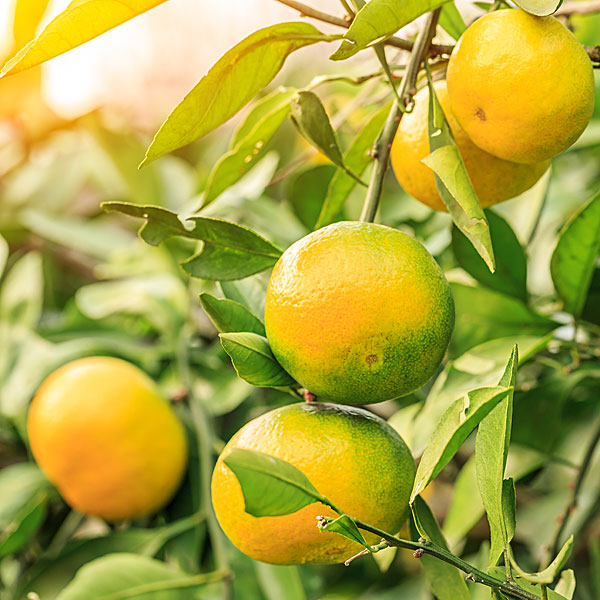orange: (262, 221, 455, 402), (206, 401, 417, 564), (27, 354, 189, 522), (449, 11, 597, 163), (389, 81, 552, 209)
